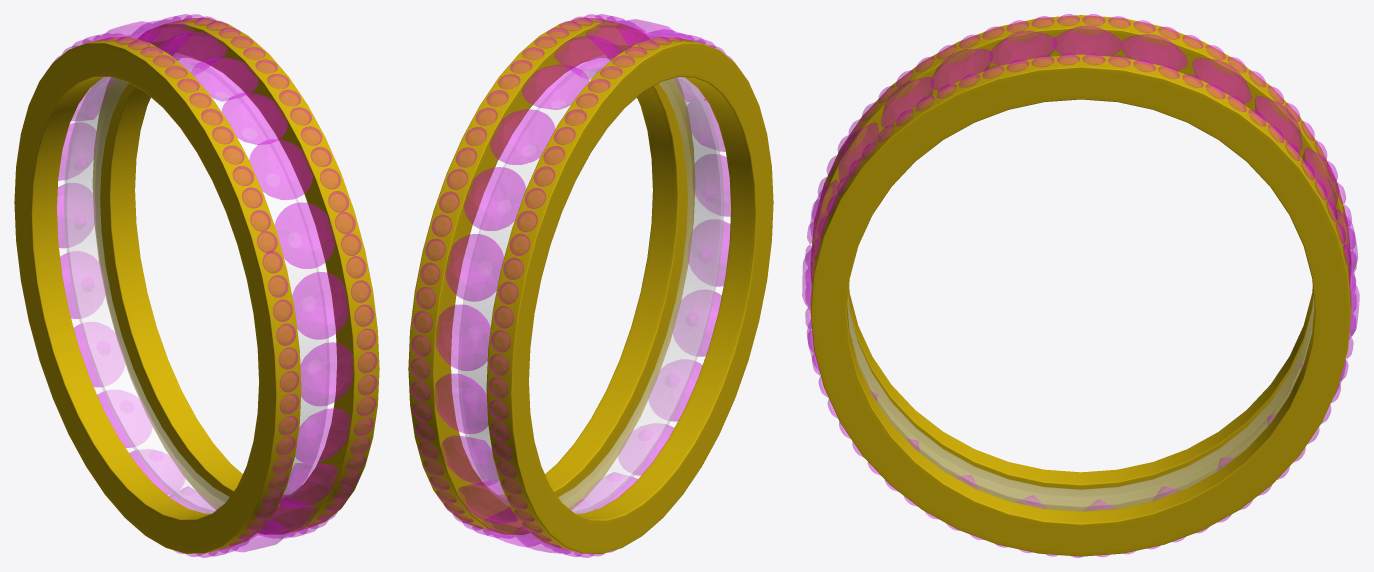
The model's file is rounded ring.glb.
The picture shows the model from 3 angles, left to right: view 1: azimuth 30°, elevation 25°; view 2: azimuth 150°, elevation 25°; view 3: azimuth 270°, elevation 25°; orthographic projection. The views are drawn at different scales.
Visible parts, largest first — view 1: pPipe3, kafi_bade, pPipe6, chote_1; view 2: pPipe3, kafi_bade, pPipe6, chote_1; view 3: pPipe3, kafi_bade, chote_1, pPipe6.
Boxes of the visible parts, <box> form: pPipe3: <box>14,18,379,553</box>; kafi_bade: <box>57,19,353,551</box>; pPipe6: <box>63,53,329,513</box>; chote_1: <box>55,14,377,557</box>; pPipe3: <box>408,18,773,553</box>; kafi_bade: <box>434,19,730,553</box>; pPipe6: <box>458,55,724,513</box>; chote_1: <box>410,14,732,557</box>; pPipe3: <box>810,15,1351,556</box>; kafi_bade: <box>802,26,1359,510</box>; chote_1: <box>805,14,1356,557</box>; pPipe6: <box>847,295,1314,511</box>.
Size of the model in its own units: 0.1674 by 0.7568 by 0.7567.
